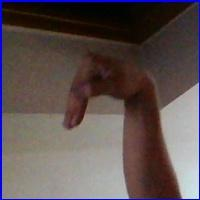A: (61, 48, 152, 136)
